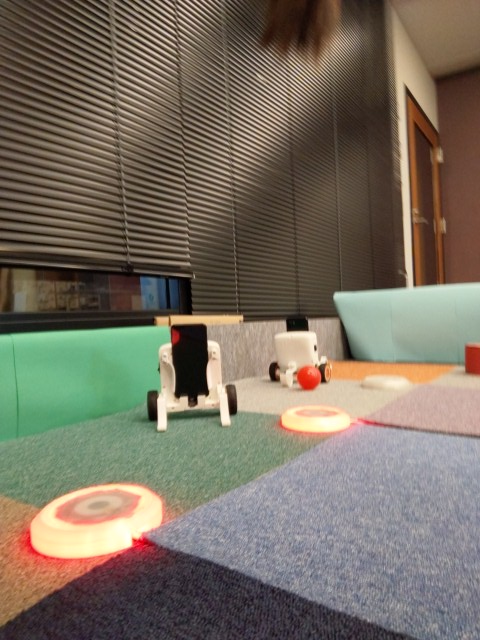br: (269, 317, 331, 388)
f: (143, 321, 241, 433)
o: (361, 372, 410, 391)
r: (27, 482, 162, 564), (279, 406, 352, 433)
